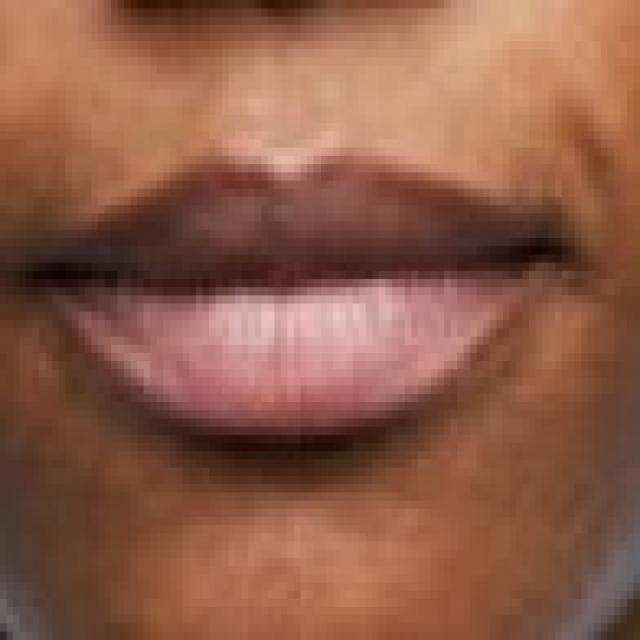closed-mouth: (13, 140, 581, 443)
